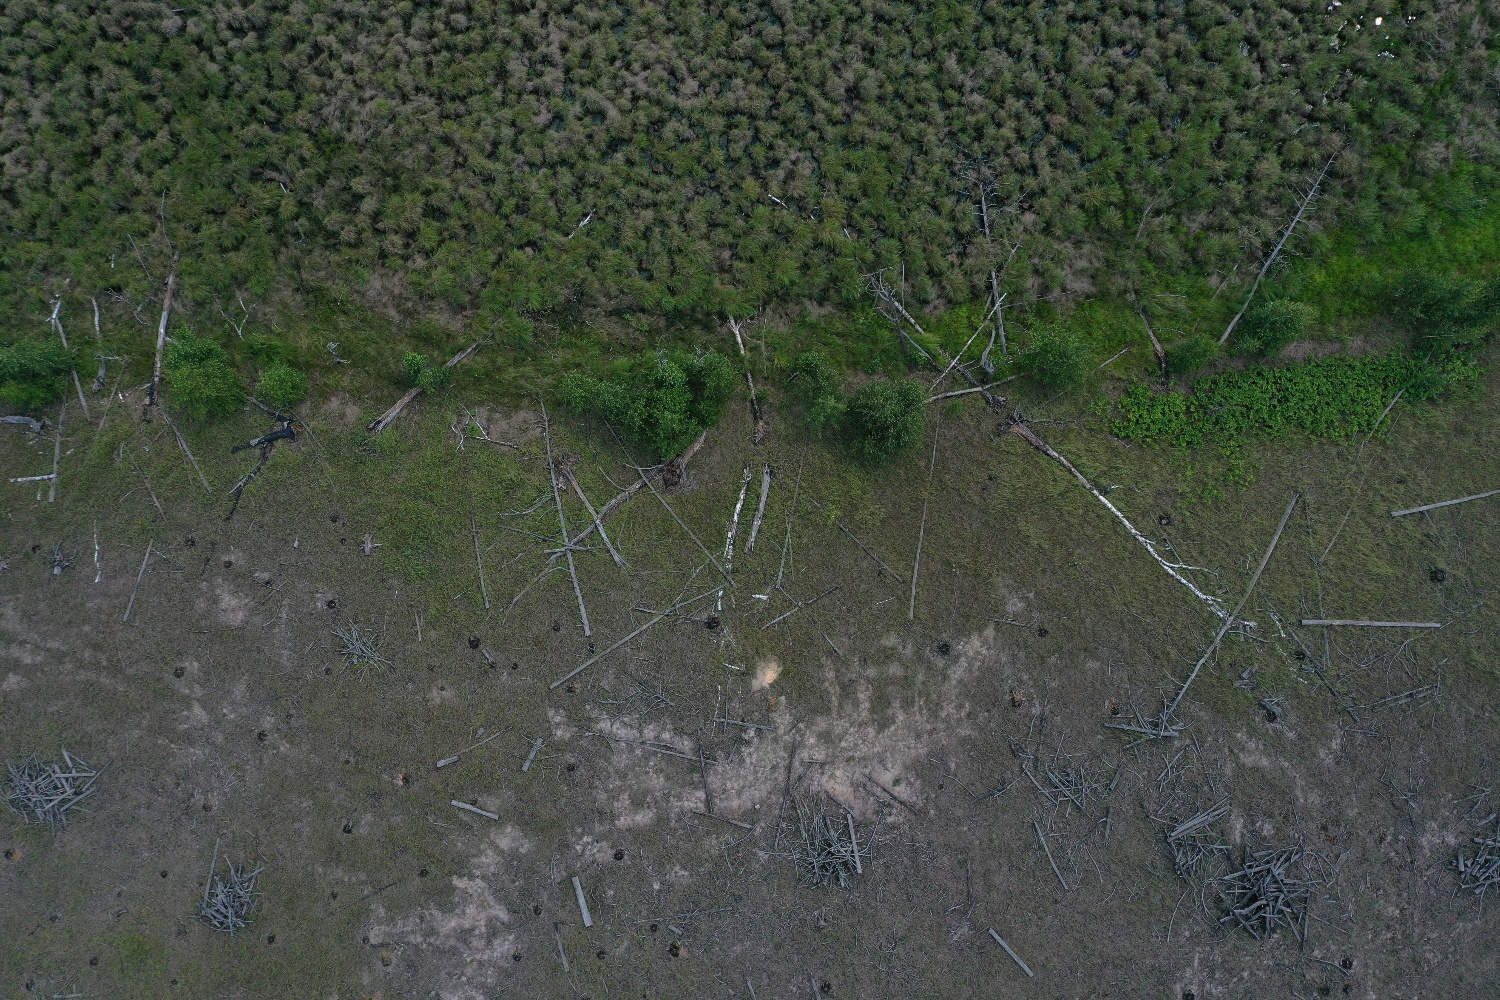branches: (1212, 838, 1317, 946), (4, 749, 115, 836), (1163, 795, 1238, 888), (791, 812, 863, 890), (195, 860, 265, 936), (1100, 700, 1183, 758), (1441, 824, 1500, 900), (330, 616, 396, 680), (1031, 761, 1109, 815), (46, 539, 83, 576)
